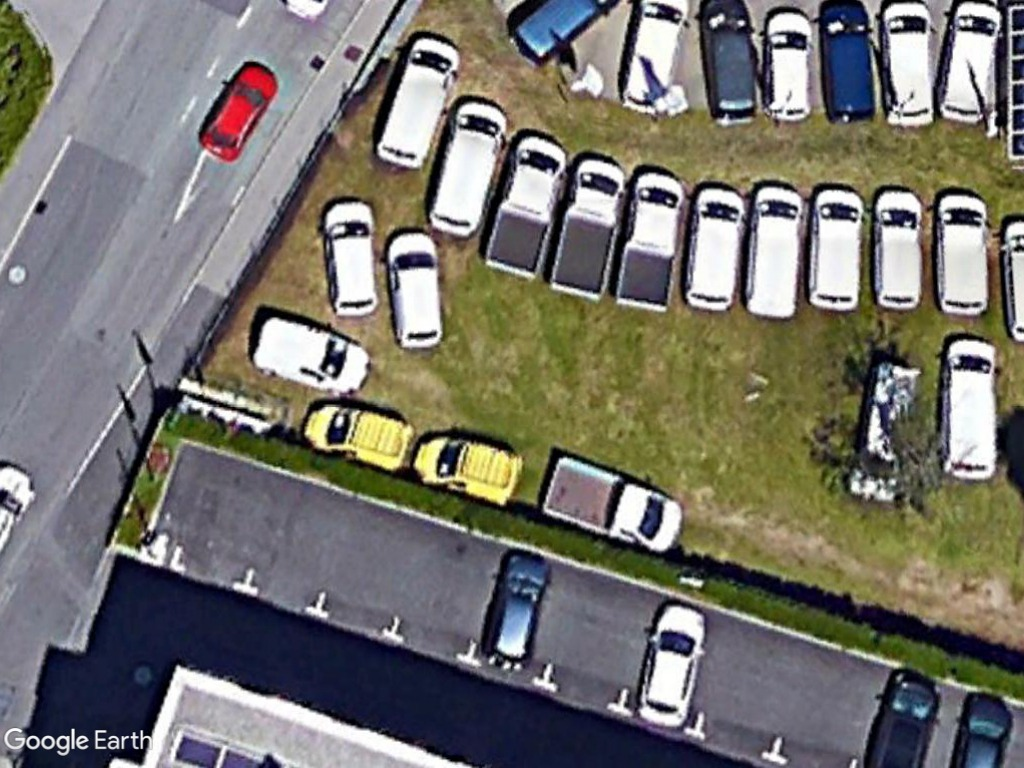car: (633, 602, 710, 726), (199, 57, 285, 164), (478, 547, 553, 667), (319, 197, 384, 320), (386, 224, 444, 352), (757, 2, 817, 124)
others: (536, 449, 688, 558), (482, 134, 570, 280), (550, 155, 630, 303), (616, 168, 687, 316)
van: (376, 32, 467, 168), (423, 92, 507, 236), (939, 334, 1003, 485), (739, 182, 807, 322), (251, 317, 372, 394), (294, 396, 413, 470), (680, 180, 746, 312), (413, 432, 525, 505), (808, 183, 867, 316), (940, 0, 1000, 128), (869, 186, 927, 314), (879, 0, 935, 131), (937, 190, 992, 320)
